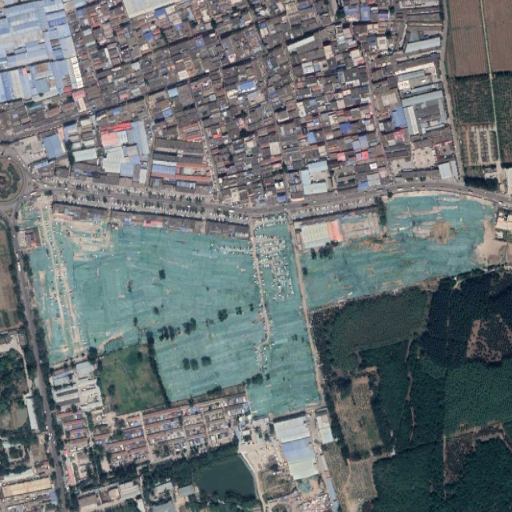cw: (14, 190, 495, 415)
